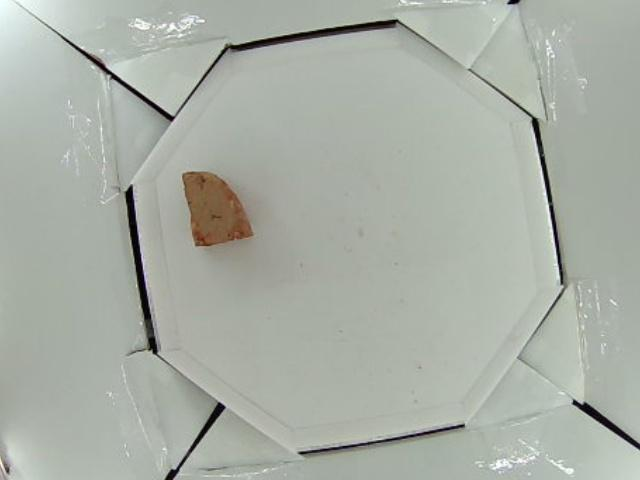Brisk: (178, 168, 253, 247)
